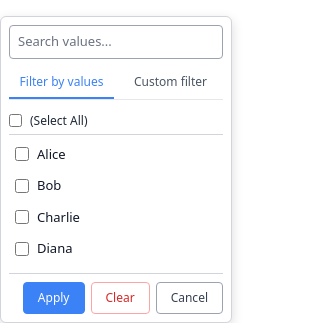
Test: FilterDropdown › filters values based on search text
(page scrolled)
Type "ali" into the field with test id "filter-search-input" at (116, 42), box [9,25,223,58]
(page scrolled)
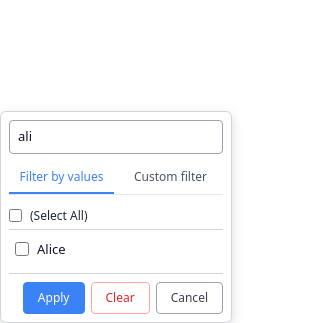
Expected: the text "Alice" is shown, [37,240,66,259]
Expected: the text "Bob" is gone
